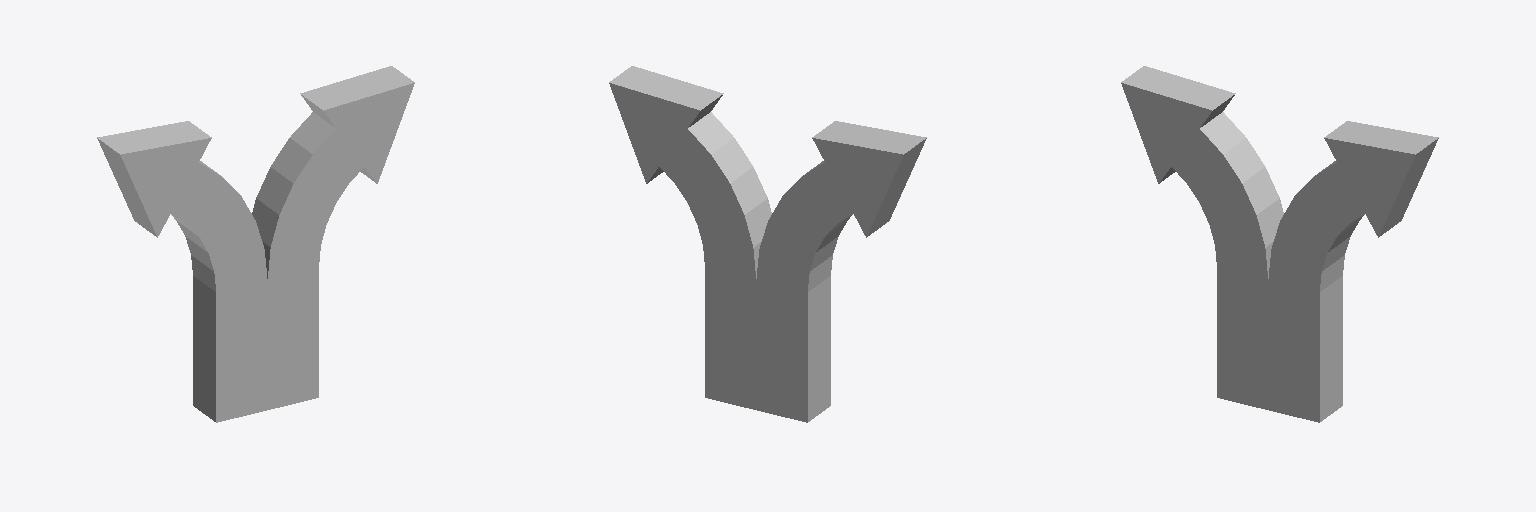
File: Arrow_60.obj
The picture shows the model from 3 angles: view 1: azimuth 30°, elevation 25°; view 2: azimuth 150°, elevation 25°; view 3: azimuth 330°, elevation 25°; orthographic projection.
Parts seen in each view (by area): view 1: Arrow_60; view 2: Arrow_60; view 3: Arrow_60.
Part boxes in pixels (bbox=[...]): Arrow_60: bbox=[97, 66, 414, 422]; Arrow_60: bbox=[609, 66, 926, 422]; Arrow_60: bbox=[1121, 66, 1438, 422].
Bounding box in the file's own units: 2.86 × 2.7 × 0.3909.